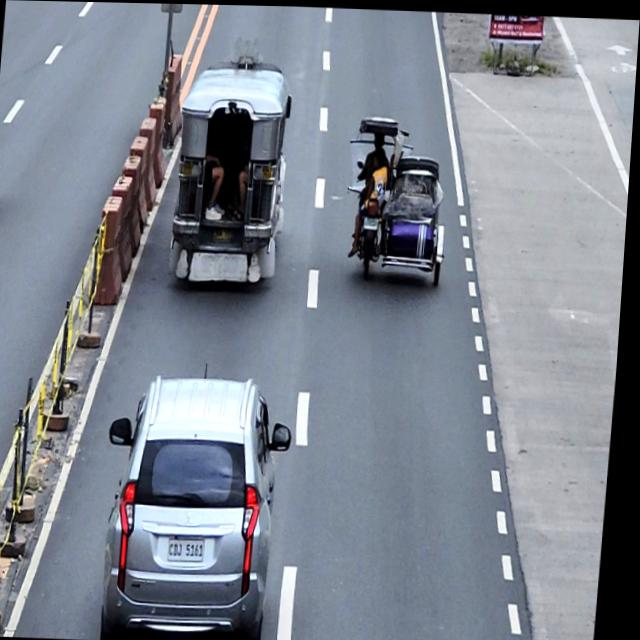Car: (99, 371, 305, 640)
Jeep: (171, 65, 297, 287)
License-Plate: (172, 535, 214, 564), (212, 224, 241, 242), (366, 215, 383, 229)
Tricycle: (346, 107, 458, 282)
